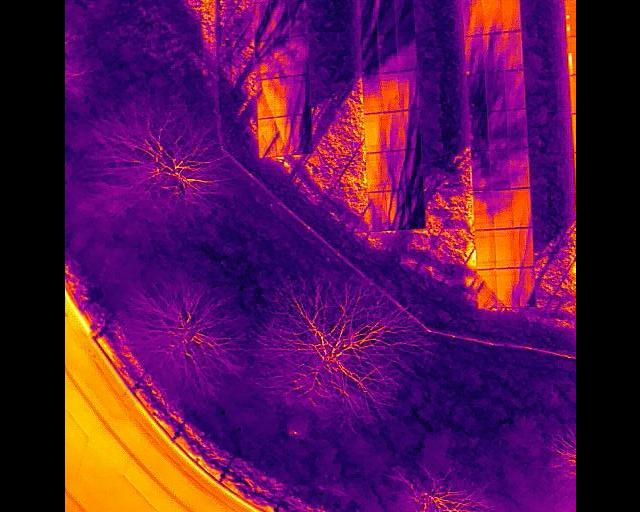No-Anomaly: (510, 189, 532, 228), (492, 229, 513, 269), (474, 231, 495, 269), (363, 114, 380, 152), (500, 0, 520, 31)
Shadowing: (508, 149, 531, 189), (290, 115, 311, 157), (495, 268, 516, 309), (395, 29, 416, 69), (506, 109, 527, 149), (401, 148, 421, 189), (382, 151, 402, 192), (491, 190, 512, 229), (379, 112, 400, 151), (503, 33, 523, 73), (489, 150, 509, 190), (487, 111, 507, 151), (472, 190, 492, 230), (378, 31, 397, 73), (288, 37, 307, 79), (398, 70, 418, 109), (504, 71, 524, 110), (470, 149, 489, 190), (486, 70, 505, 110), (476, 269, 495, 309), (466, 72, 486, 110), (405, 189, 424, 229), (360, 34, 378, 76), (468, 110, 487, 149), (513, 228, 532, 267), (253, 42, 273, 79), (364, 152, 382, 193), (483, 32, 502, 70), (466, 33, 484, 73), (401, 110, 419, 150), (385, 193, 405, 229), (366, 191, 384, 231), (270, 0, 288, 40), (257, 79, 275, 119), (291, 74, 308, 116), (380, 74, 398, 112), (361, 76, 379, 114), (273, 116, 290, 156), (257, 119, 274, 159), (517, 267, 534, 307), (357, 0, 376, 35), (274, 78, 291, 117), (464, 0, 482, 36), (286, 0, 304, 36), (481, 0, 501, 32), (272, 38, 288, 78), (253, 3, 269, 43), (374, 0, 393, 33), (393, 0, 413, 31)
